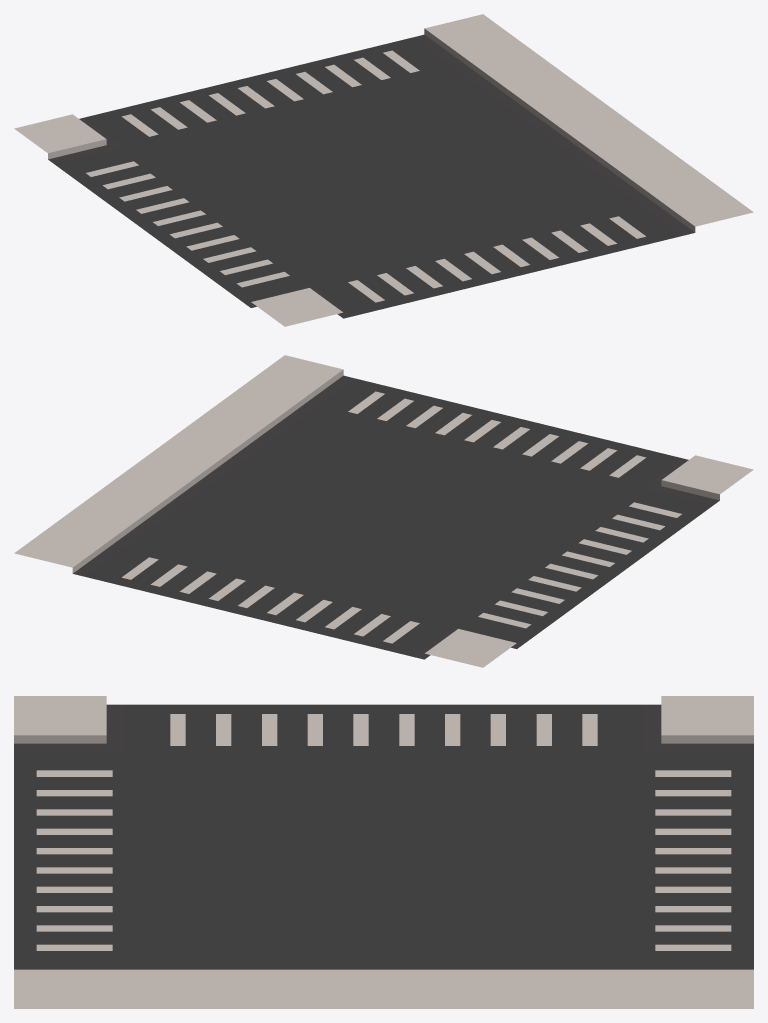
File: prop_street_t.glb
3 renders of one model, top to bottom at view 1: azimuth 30°, elevation 25°; view 2: azimuth 150°, elevation 25°; view 3: azimuth 270°, elevation 25°, orthographic. The views are drawn at different scales.
Visible parts, largest first — view 1: Street_T; view 2: Street_T; view 3: Street_T.
Boxes of the visible parts, bbox=[...] form: Street_T: bbox=[14, 14, 753, 326]; Street_T: bbox=[14, 355, 753, 667]; Street_T: bbox=[14, 696, 753, 1008].
Size of the model in its own units: 8 by 0.1 by 8.
Materials: 1 (1 with a texture image).
